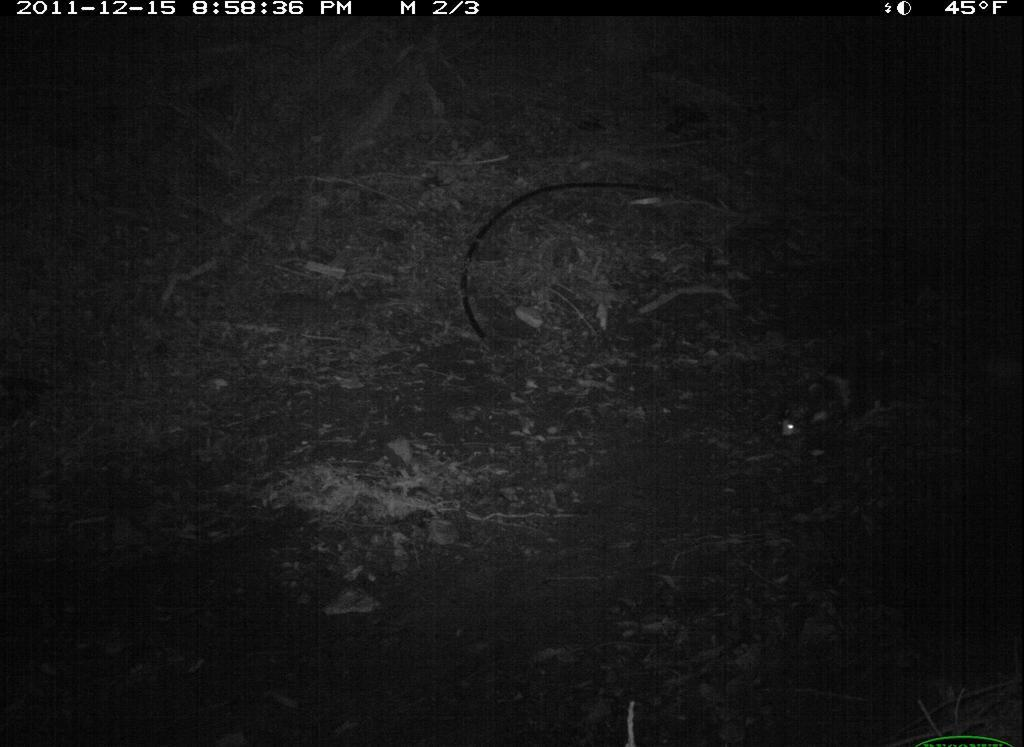cat: (767, 340, 904, 472)
